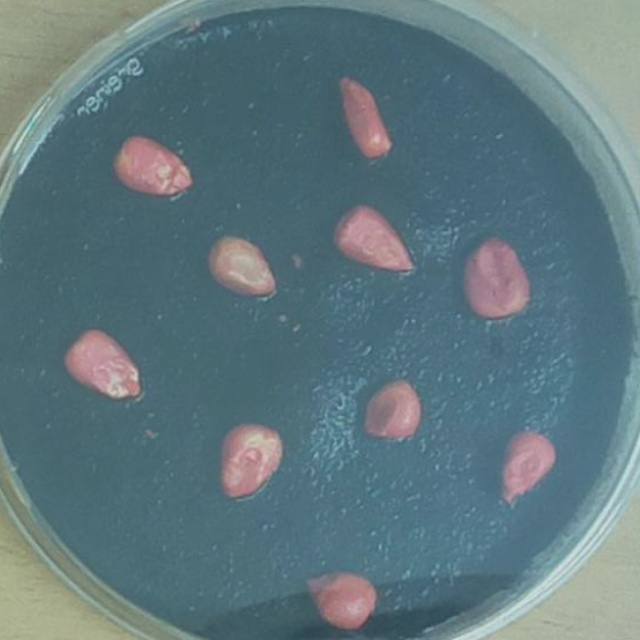Zea mays: (452, 227, 539, 328), (56, 320, 151, 410), (324, 194, 420, 280), (328, 62, 403, 167), (106, 124, 200, 204), (211, 412, 289, 507), (197, 225, 286, 303), (294, 559, 384, 636), (492, 420, 561, 511), (353, 369, 427, 451)
